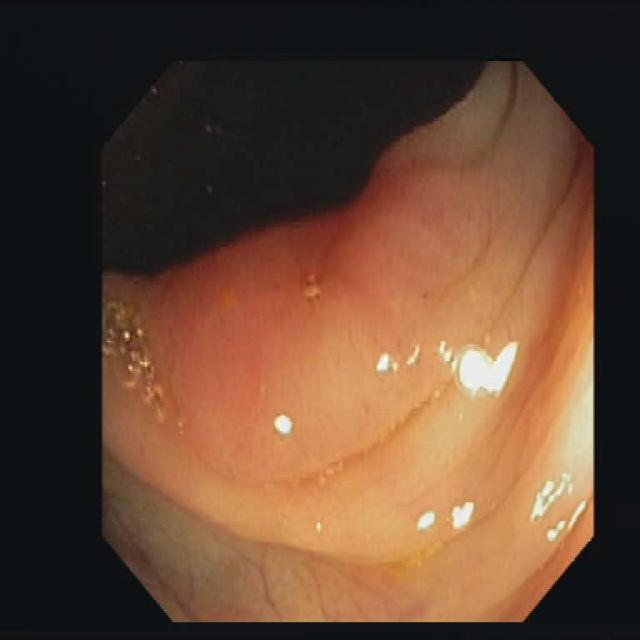tumor: (148, 171, 510, 460)
